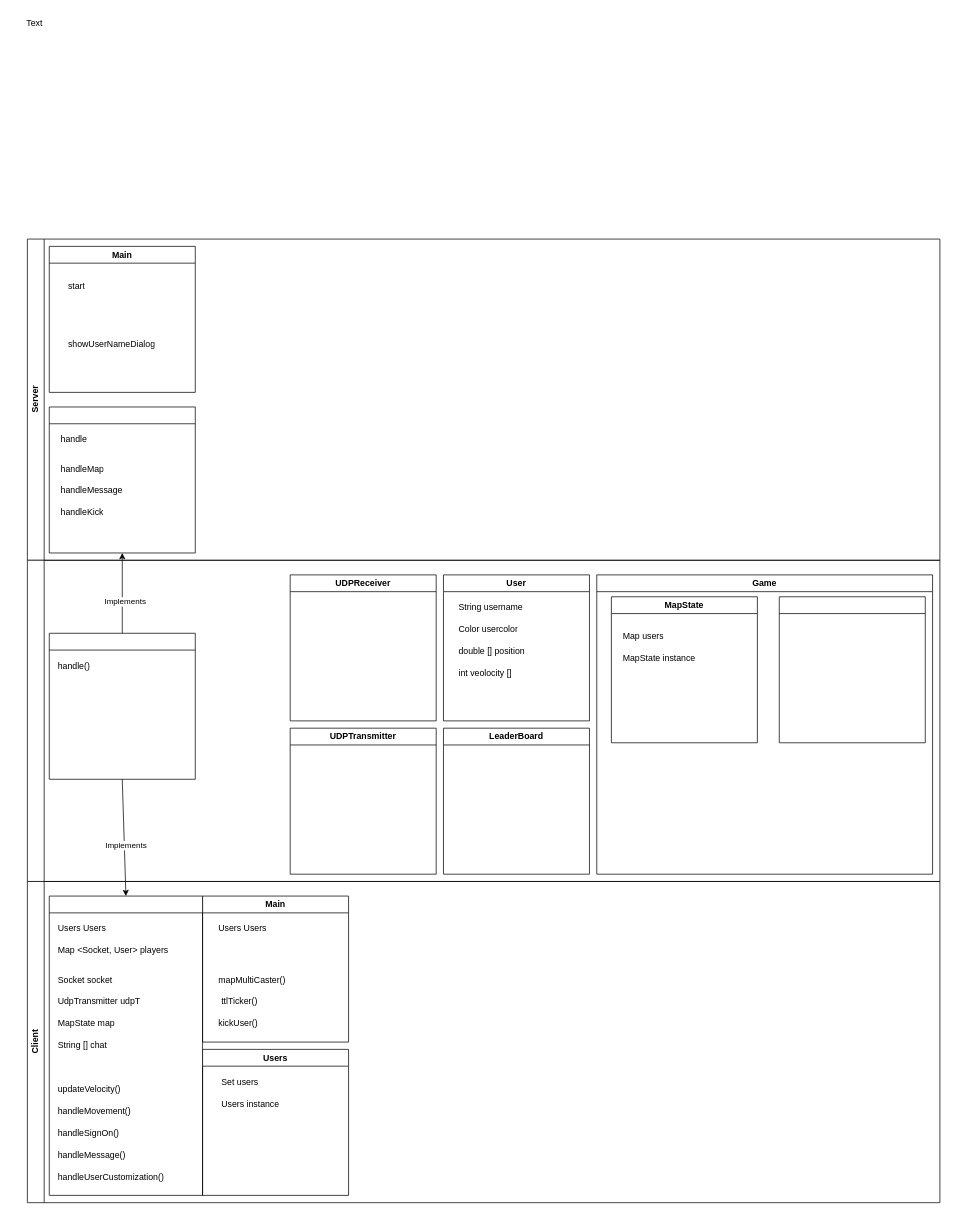
The diagram is 953 pixels wide and 1215 high, and some of its shapes have lost their labels. The shapes that lost their labels are listed below. From the top down, each one's box as (x1, y1, x2, y2) in pixels, then its label:
(49, 406, 195, 553): ServerUDPHandler
(779, 596, 925, 743): NoInterenetGame
(49, 633, 195, 779): UDPHandler (Interface)
(27, 560, 940, 881): Core
(49, 895, 203, 1195): ClientUDPHandler
